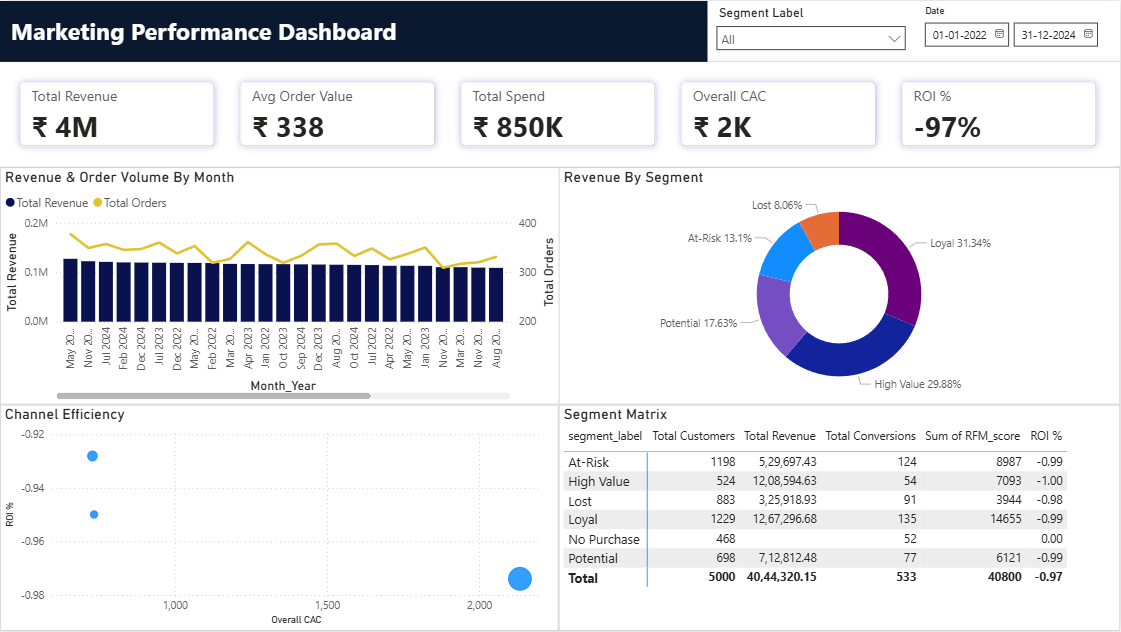

The dashboard page shown, as its layout file describes it:
{"tool":"powerbi","page":{"name":"Page 1","canvas":[1280,720],"ordinal":0},"visuals":[{"type":"shape","box":[0,0,1280.3,70],"z":0},{"type":"textbox","box":[0,11,1280.3,49.4],"z":1000},{"type":"slicer","fields":{"Values":["Dim_Date.Date"]},"box":[1044.3,0,236,70],"z":2000},{"type":"slicer","fields":{"Values":["customers_segmented.segment_label"]},"box":[808.2,0,236,70],"z":3000},{"type":"cardVisual","fields":{"Data":["clean_orders.Total Revenue","clean_orders.Avg Order Value","campaigns.Total Spend","clean_responses.Overall CAC","clean_responses.ROI %"]},"box":[0,70,1280.3,119.4],"z":4000},{"type":"lineClusteredColumnComboChart","title":"Revenue & Order Volume By Month","fields":{"Category":["Dim_Date.Month_Year"],"Y":["clean_orders.Total Revenue"],"Y2":["clean_orders.Total Orders"]},"box":[0,190,641.4,271.4],"z":5000},{"type":"scatterChart","title":"Channel Efficiency","fields":{"Category":["campaigns.channel"],"X":["clean_responses.Overall CAC"],"Y":["clean_responses.ROI %"],"Size":["campaigns.Total Spend"]},"box":[0,461.4,638.6,258.6],"z":6000},{"type":"donutChart","title":"Revenue By Segment","fields":{"Category":["customers_segmented.segment_label"],"Y":["clean_orders.Total Revenue"]},"box":[638.6,190,641.4,271.4],"z":7000},{"type":"pivotTable","title":"Segment Matrix","fields":{"Rows":["customers_segmented.segment_label"],"Values":["customers_segmented.Total Customers","clean_orders.Total Revenue","clean_responses.Total Conversions","Sum(rfm_clustered.RFM_score)","clean_responses.ROI %"]},"box":[638.6,461.4,641.4,258.6],"z":8000}]}

Visuals, with their boxes in screenshot pixels (x1, y1, x2, y2), scaled from the page's 1280x720 canvas onto the 1121x632 screenshot:
shape: rect(0, 0, 1120, 61)
textbox: rect(0, 10, 1120, 53)
slicer - Dim_Date.Date: rect(915, 0, 1120, 61)
slicer - customers_segmented.segment_label: rect(708, 0, 914, 61)
cardVisual - clean_orders.Total Revenue x clean_orders.Avg Order Value: rect(0, 61, 1120, 166)
"Revenue & Order Volume By Month" lineClusteredColumnComboChart: rect(0, 167, 562, 405)
"Channel Efficiency" scatterChart: rect(0, 405, 559, 631)
"Revenue By Segment" donutChart: rect(559, 167, 1120, 405)
"Segment Matrix" pivotTable: rect(559, 405, 1120, 631)
